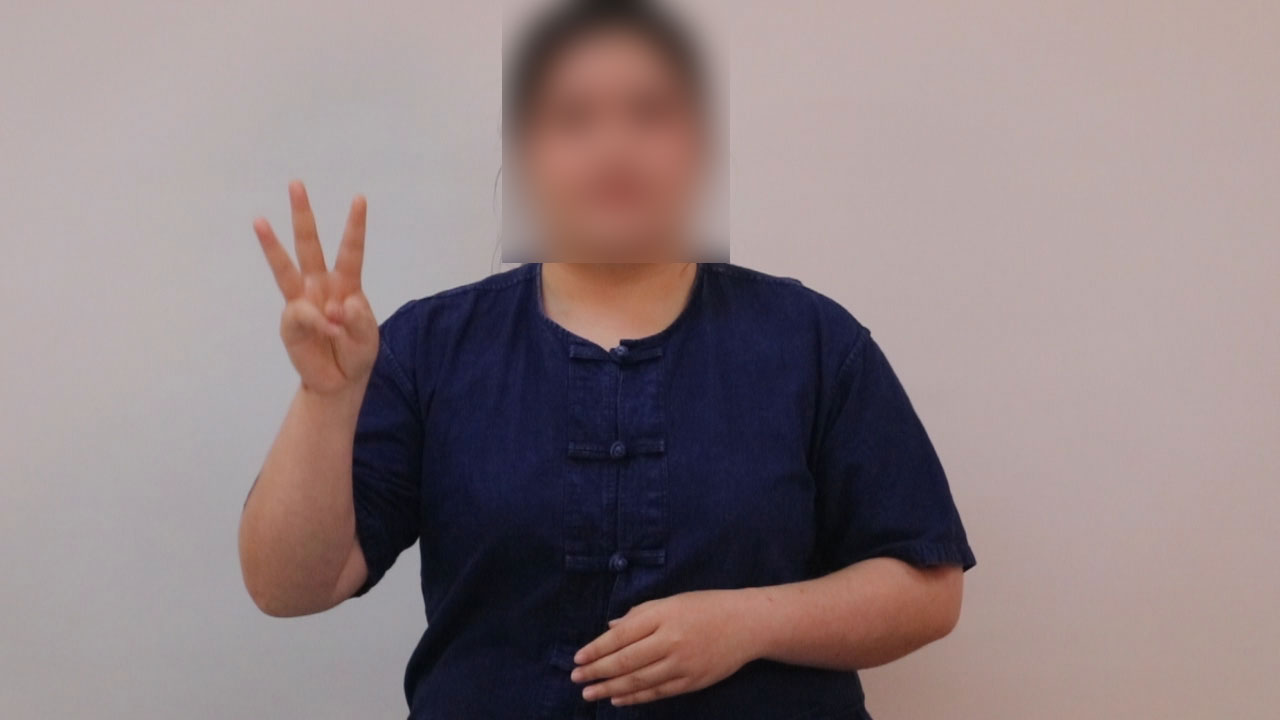wor: (245, 168, 392, 400)
